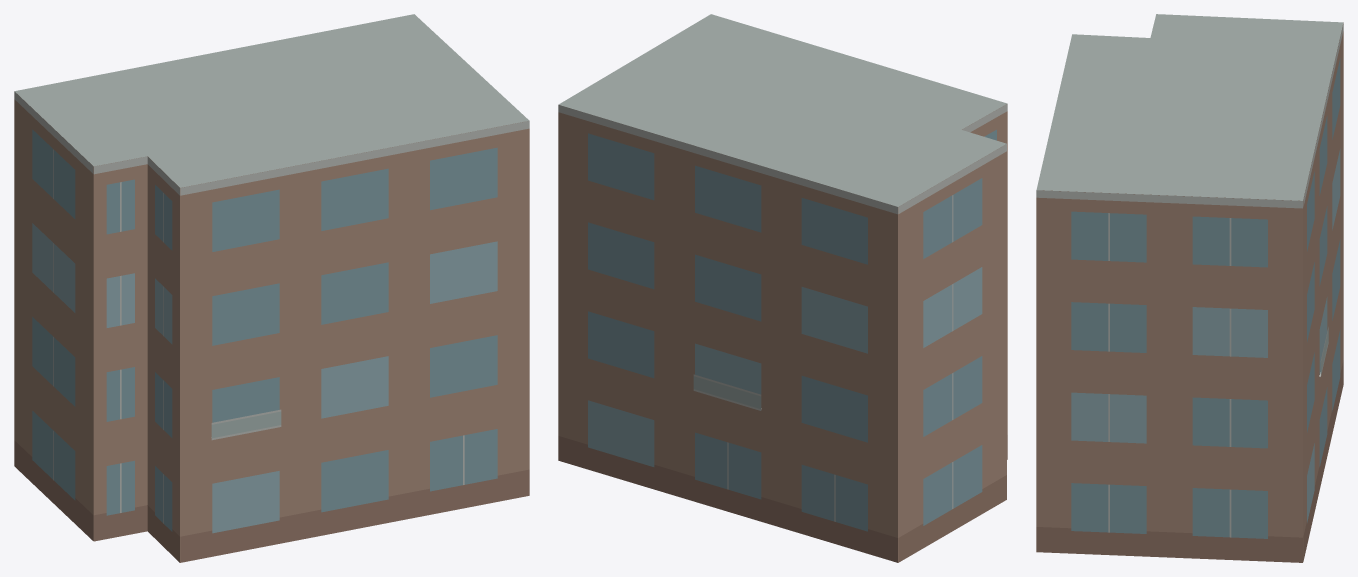
File: survey-upis-33041853.glb
The picture shows the model from 3 angles, left to right: view 1: azimuth 30°, elevation 25°; view 2: azimuth 150°, elevation 25°; view 3: azimuth 270°, elevation 25°; orthographic projection. The views are drawn at different scales.
Visible parts, largest first — view 1: survey-upis-33041853.tmp; view 2: survey-upis-33041853.tmp; view 3: survey-upis-33041853.tmp.
Part boxes in pixels (x1,y1,x2,y2): survey-upis-33041853.tmp: (14,14,529,562); survey-upis-33041853.tmp: (558,14,1007,562); survey-upis-33041853.tmp: (1036,14,1343,562).
Size of the model in its own units: 12.85 by 11.6 by 8.93.
